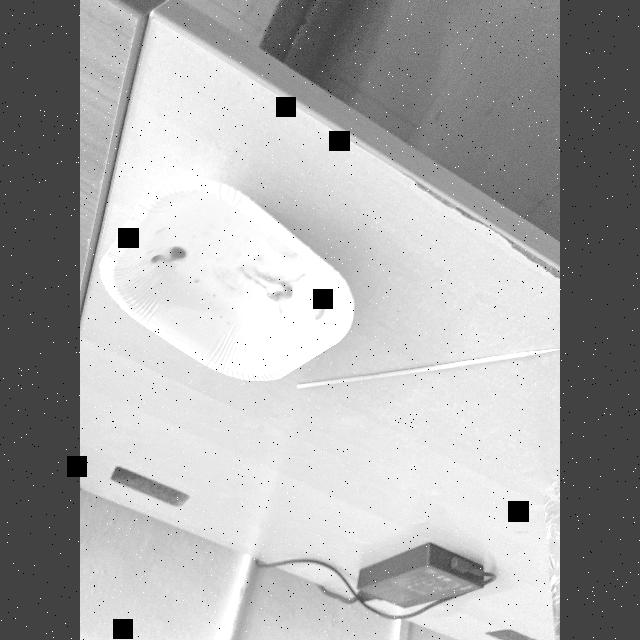cardboard_bowl: (100, 174, 356, 382)
stick: (294, 350, 560, 394)
